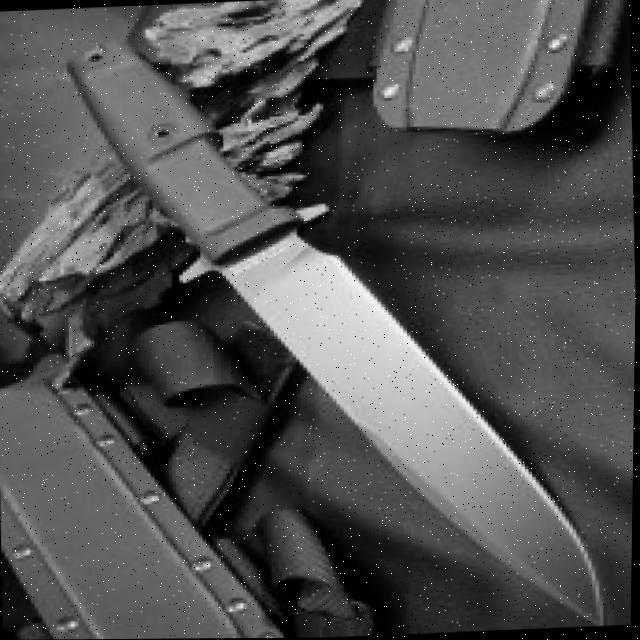knife: (55, 16, 611, 640)
